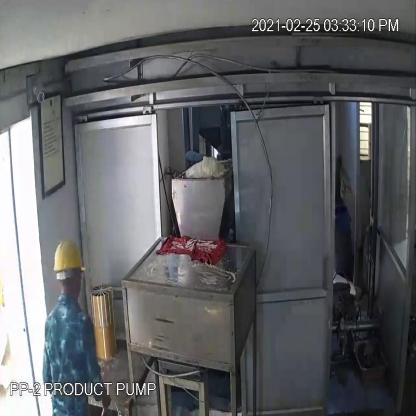helmet: (48, 232, 88, 280)
